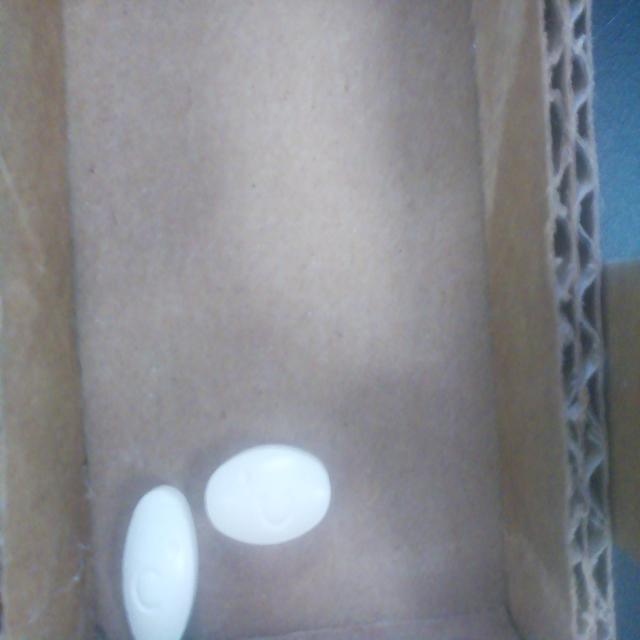pill: (204, 445, 332, 546), (121, 486, 199, 640)
